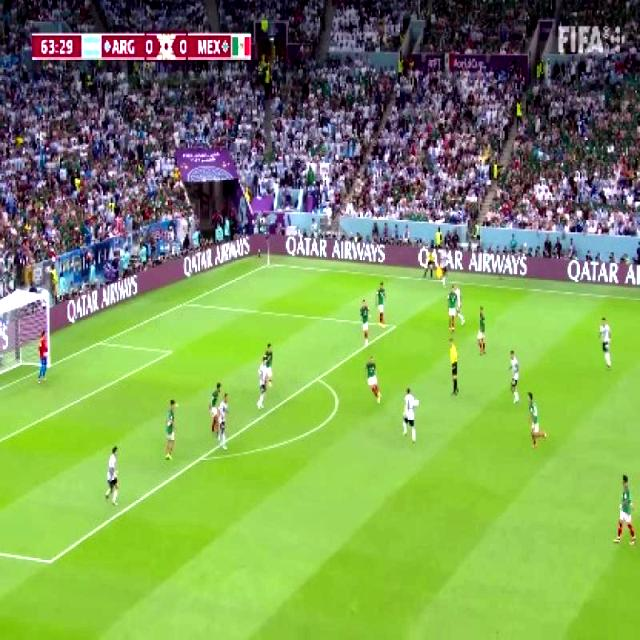bigarea_bottom_inner: (44, 552, 56, 570)
bigarea_top_inner: (388, 318, 396, 332)
bigarea_top_outter: (180, 298, 188, 308)
bottom_arc_area_intersection: (195, 452, 205, 464)
corner: (264, 260, 274, 268)
smallarea_top_inner: (164, 346, 174, 357)
smallarea_top_outter: (95, 337, 103, 348)
top_arc_area_intersection: (312, 370, 322, 385)
